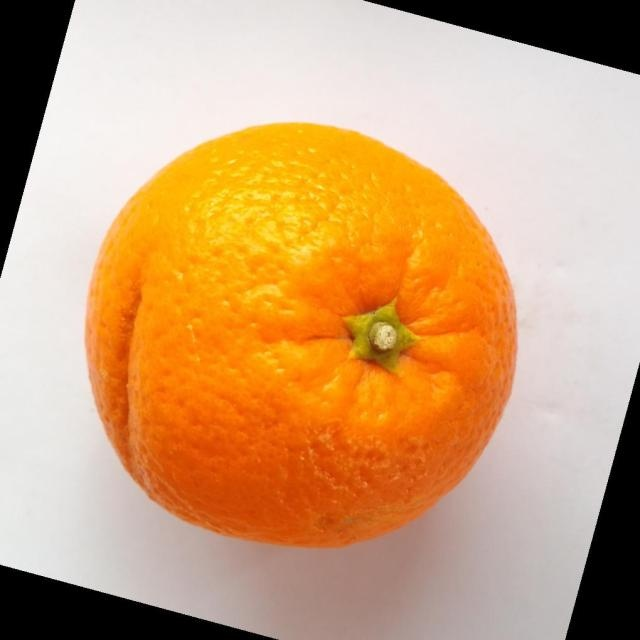agrume: (83, 119, 519, 549)
